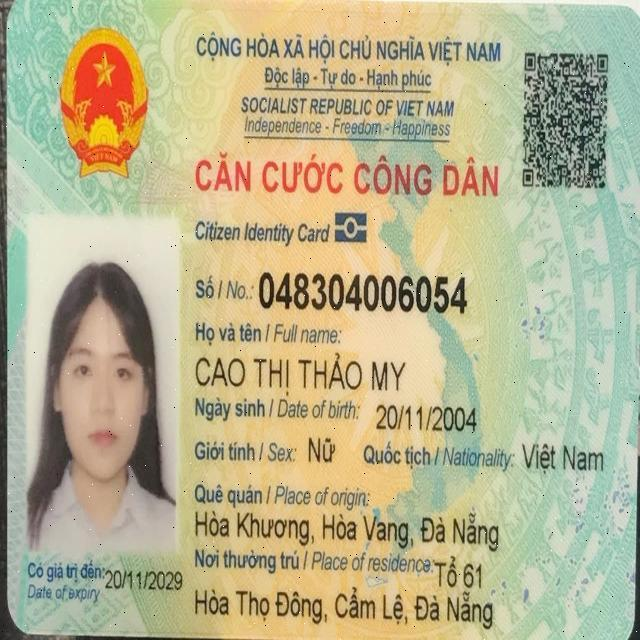current_place: (190, 583, 498, 636), (432, 553, 480, 594)
dob: (368, 397, 480, 440)
expire_date: (103, 567, 186, 594)
gender: (304, 431, 341, 467)
id: (253, 261, 470, 318)
name: (189, 352, 412, 393)
nationality: (520, 433, 608, 476)
origin_place: (192, 502, 499, 548)
